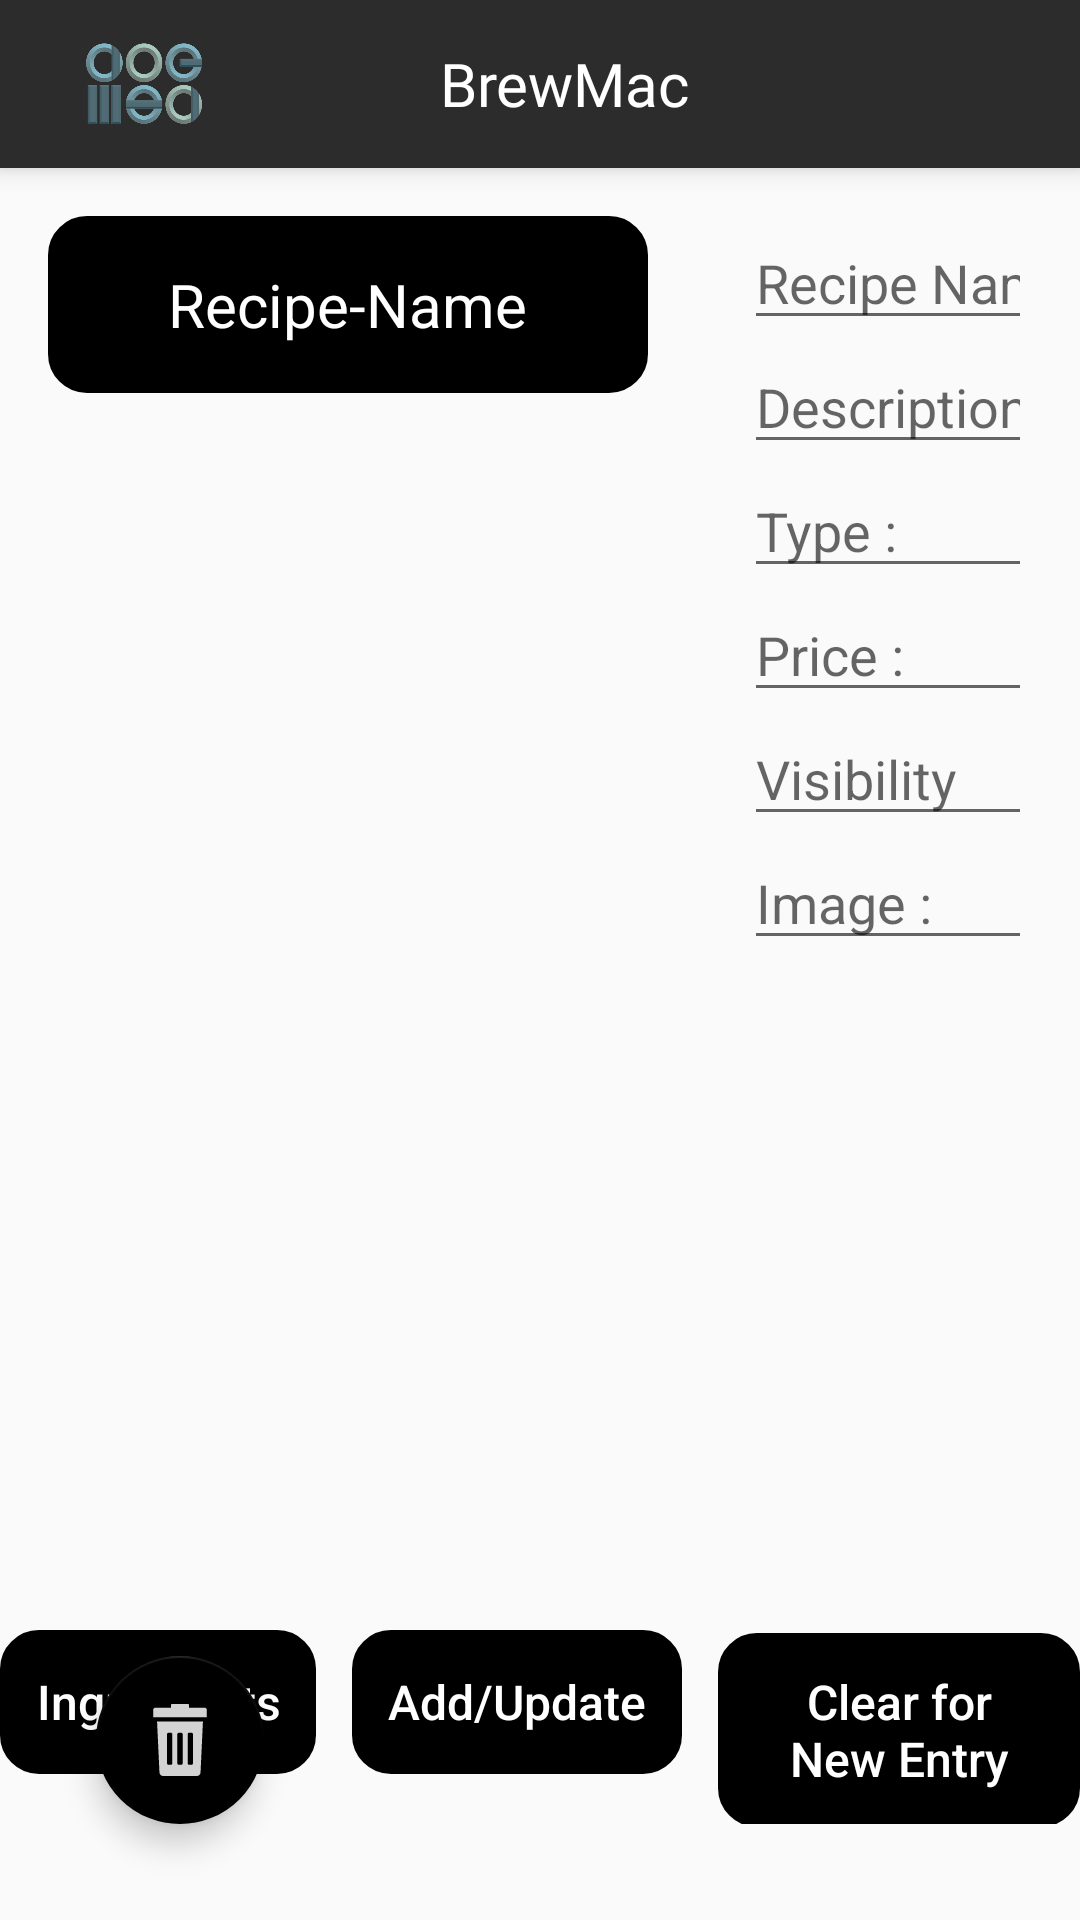

Point at icon controls on the screen. Image size 1080*1920, points as [x,y].
rubbish bin: [180,1740]
